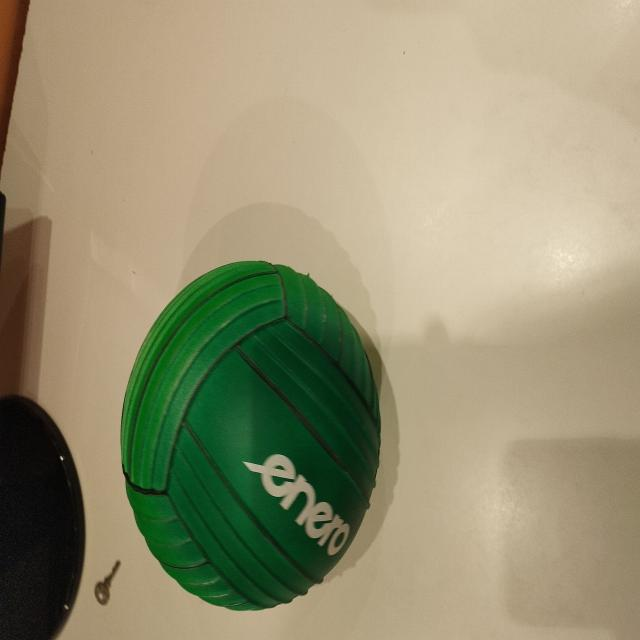zielona: (121, 260, 383, 613)
